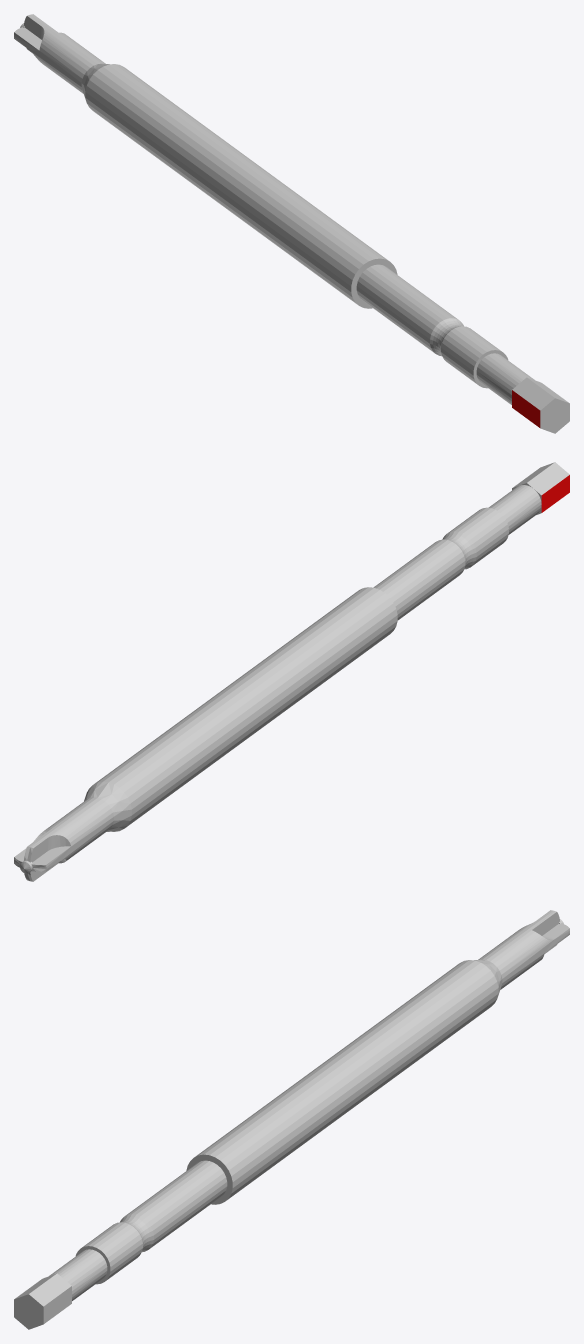
The model's file is HASTEDECHAVENEWPROMM1_5REV02__2__STEP_45.obj.
3 views of the same model, one above another, from view 1: azimuth 30°, elevation 25°; view 2: azimuth 150°, elevation 25°; view 3: azimuth 330°, elevation 25° (orthographic).
Visible parts, largest first — view 1: Object1; view 2: Object1; view 3: Object1.
Boxes of the visible parts, x1,y1,x2,y2 form: Object1: (14, 14, 569, 433); Object1: (14, 462, 569, 881); Object1: (14, 910, 569, 1329).
Size of the model in its own units: 3.77 by 3.8 by 74.75.
